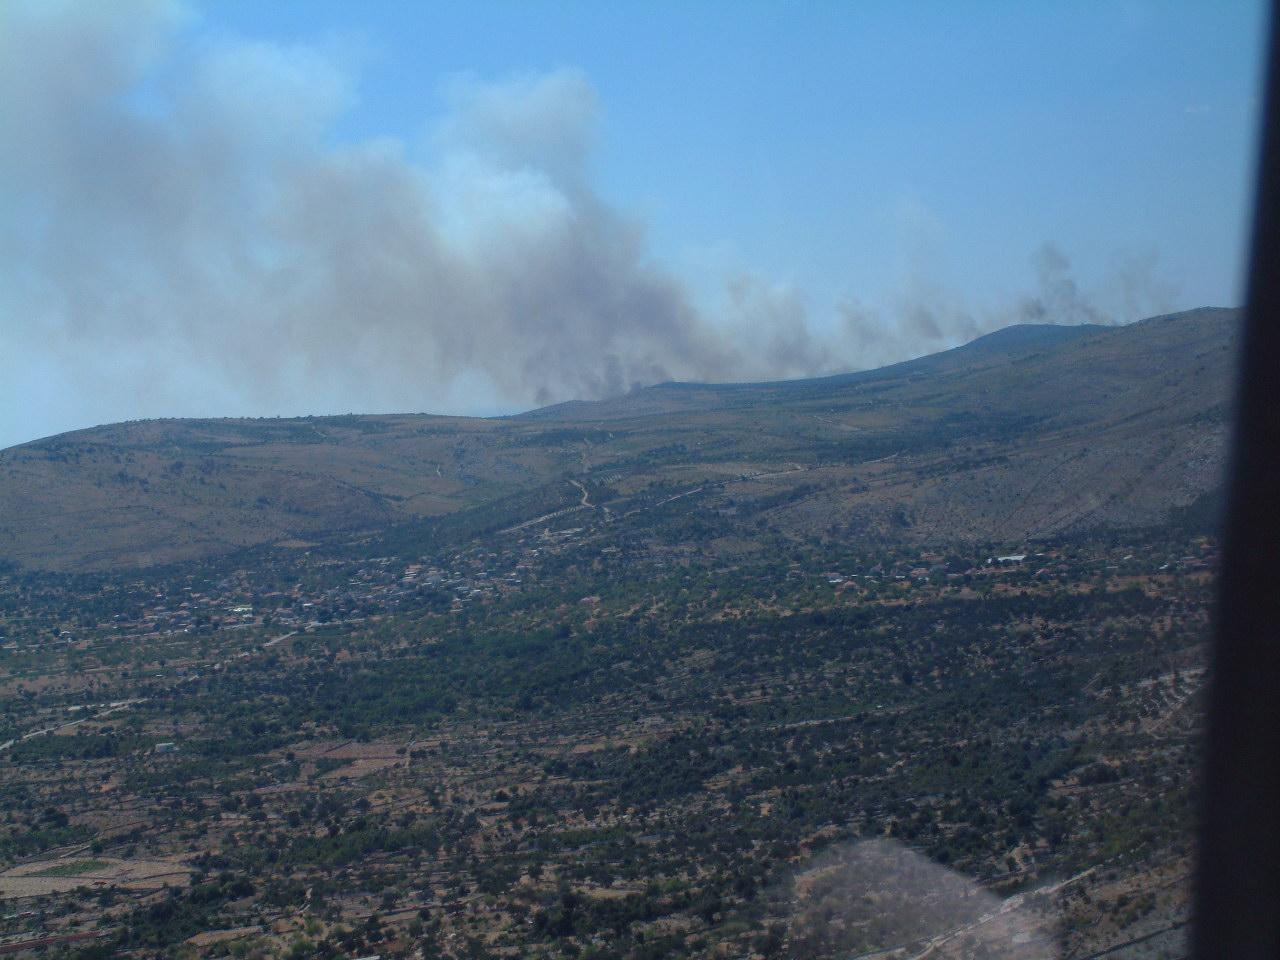Smoke: (0, 1, 766, 383), (768, 220, 1176, 383)
